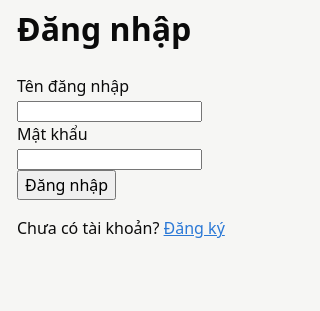
Test: LoginPage › shows the error message and re-enables the button on failure
Type "alice" into the field labelled "Tên đăng nhập" at [110, 112], box [17,101,202,122]
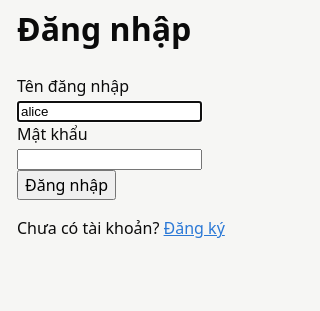
Type "wrongpass" into the password field labelled "Mật khẩu" at [110, 160], box [17,149,202,170]
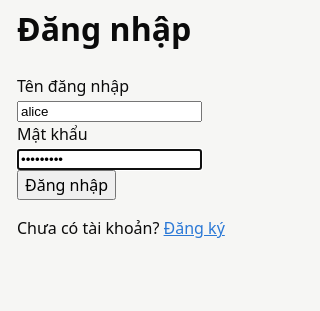
Click the button "Đăng nhập" at [67, 185], box [17,170,116,200]
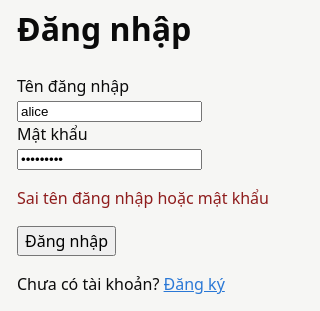
Expected: the button "Đăng nhập" is enabled, [17,226,116,256]
Now the message reads "Sai tên đăng nhập hoặc mật khẩu", box [17,187,269,209]
